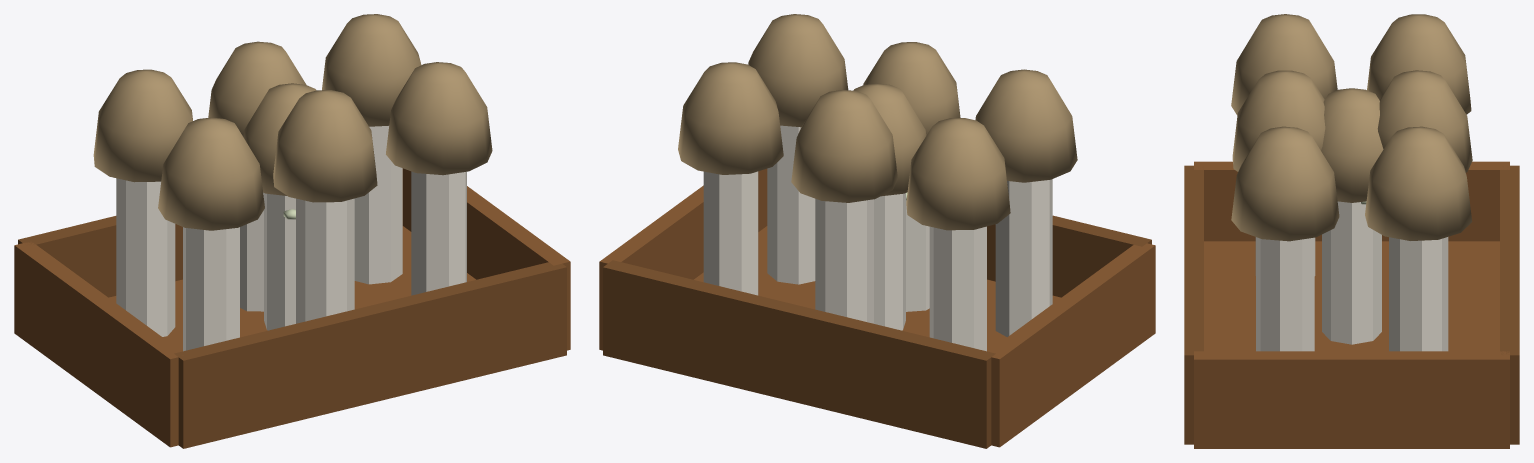
Rendered from Mush_KingOyster.fbx.
3 views of the same model, side by side, from view 1: azimuth 30°, elevation 25°; view 2: azimuth 150°, elevation 25°; view 3: azimuth 270°, elevation 25° (orthographic).
Parts seen in each view (by area): view 1: Mush_KingOyster__Stack, Mush_KingOyster; view 2: Mush_KingOyster__Stack, Mush_KingOyster; view 3: Mush_KingOyster__Stack, Mush_KingOyster.
Part boxes in pixels (x1,y1,x2,y2): Mush_KingOyster__Stack: [14, 14, 570, 448]; Mush_KingOyster: [243, 83, 316, 330]; Mush_KingOyster__Stack: [599, 14, 1155, 448]; Mush_KingOyster: [853, 83, 926, 330]; Mush_KingOyster__Stack: [1184, 14, 1519, 448]; Mush_KingOyster: [1321, 88, 1383, 344].
Bounding box in the file's own units: 0.19 × 0.124 × 0.136.
